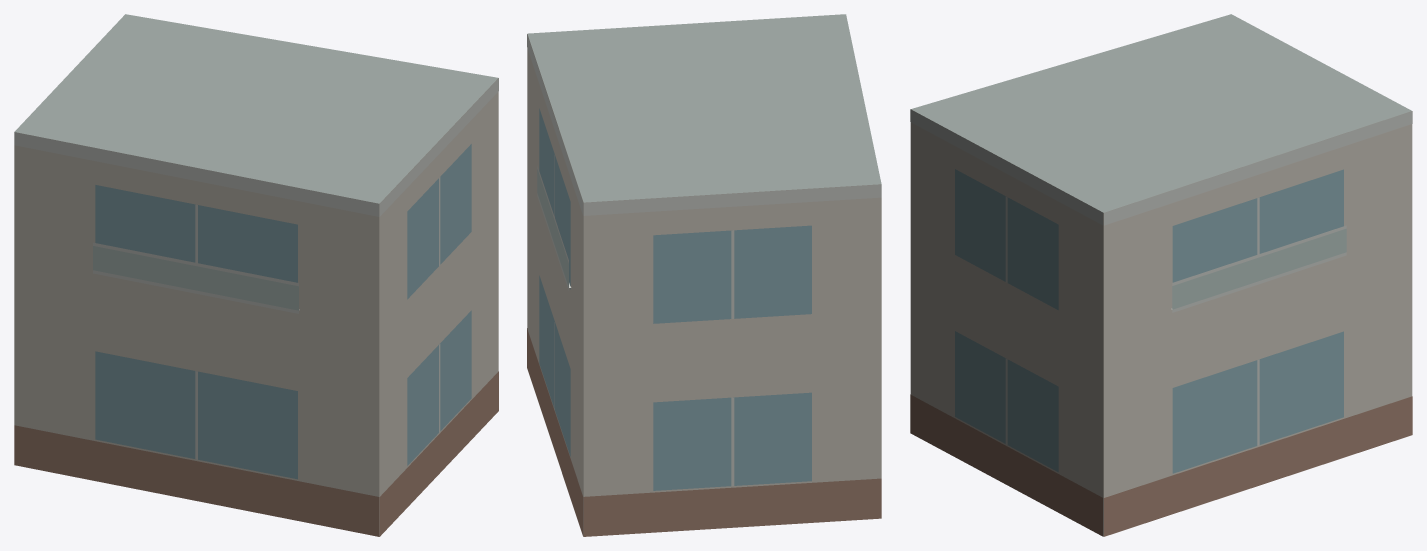
File: survey-upis-32616668.glb
3 views of the same model, side by side, from view 1: azimuth 30°, elevation 25°; view 2: azimuth 150°, elevation 25°; view 3: azimuth 270°, elevation 25° (orthographic). The views are drawn at different scales.
Parts seen in each view (by area): view 1: survey-upis-32616668.tmp; view 2: survey-upis-32616668.tmp; view 3: survey-upis-32616668.tmp.
Part boxes in pixels (x1=…): survey-upis-32616668.tmp: x1=14, y1=14, x2=498, y2=536; survey-upis-32616668.tmp: x1=527, y1=14, x2=881, y2=536; survey-upis-32616668.tmp: x1=910, y1=14, x2=1412, y2=536.
Size of the model in its own units: 8.03 by 6.1 by 8.57.
